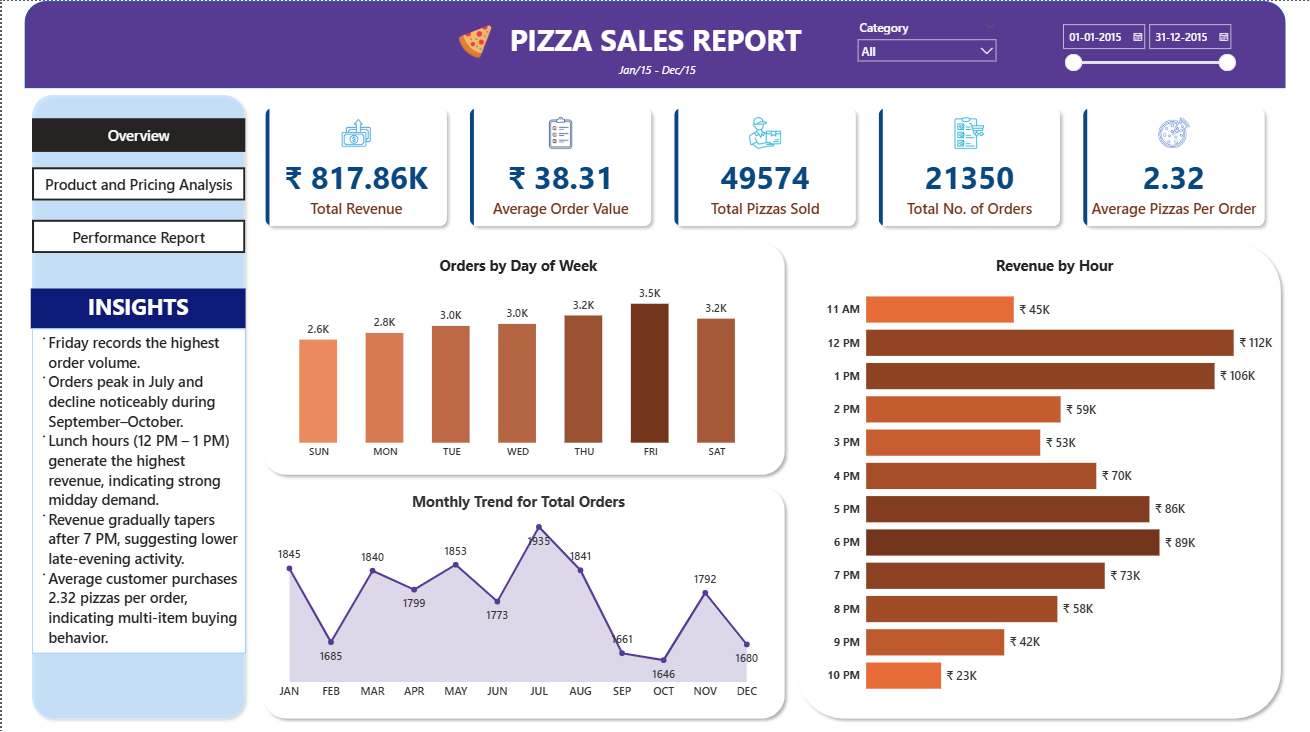

This screenshot's page, from the dashboard's own definition file:
{"tool":"powerbi","page":{"name":"Overview","canvas":[1920,1080],"ordinal":0},"visuals":[{"type":"cardVisual","fields":{"Data":["pizza_sales.Total Revenue","pizza_sales.Average Order Value","pizza_sales.Total Pizzas Sold","pizza_sales.Total No. of Orders","pizza_sales.Average Pizzas Per Order"]},"box":[357.7,128.4,1527.9,231.1],"z":0},{"type":"shape","box":[33,0,1850.8,128.4],"z":1000},{"type":"textbox","box":[656.7,22,605.3,73.4],"z":2000},{"type":"textbox","box":[882.3,84.4,159.6,33],"z":3000},{"type":"image","box":[669.5,34.9,49.5,49.5],"z":4000},{"type":"shape","box":[374.2,346.7,783.2,357.7],"z":5000},{"type":"columnChart","title":"Orders by Day of Week","fields":{"Category":["pizza_sales.day_name_abbr"],"Y":["pizza_sales.Total No. of Orders"]},"box":[392.5,372.4,730,310],"z":6000},{"type":"shape","box":[374.2,704.4,783.2,357.7],"z":7000},{"type":"areaChart","title":"Monthly Trend for Total Orders","fields":{"Category":["pizza_sales.month_name_abbr"],"Y":["pizza_sales.Total No. of Orders"]},"box":[392.5,719,730,315.5],"z":8000},{"type":"shape","box":[1157.4,346.7,728.2,715.4],"z":9000},{"type":"barChart","title":"Revenue by Hour","fields":{"Y":["pizza_sales.Total Revenue (Filtered for revenue by hour)"],"Category":["pizza_sales.Hour label"]},"box":[1203.3,372.4,682.3,662.2],"z":10000},{"type":"shape","box":[34.9,128.4,330.2,933.6],"z":11000},{"type":"textbox","box":[42.2,421.9,315.5,58.7],"z":12000},{"type":"textbox","box":[44,480.6,313.7,476.9],"z":13000},{"type":"slicer","fields":{"Values":["pizza_sales.pizza_category"]},"box":[1245.5,22,223.8,78.9],"z":14000},{"type":"slicer","fields":{"Values":["pizza_sales.order_date"]},"box":[1544.4,23.8,275.1,93.5],"z":15000},{"type":"pageNavigator","box":[44,172.4,313.7,49.5],"z":15001},{"type":"pageNavigator","box":[44,244,313.7,49.5],"z":15002},{"type":"pageNavigator","box":[44,321,313.7,49.5],"z":15003}]}

Visuals, with their boxes in screenshot pixels (x1, y1, x2, y2), scaled from the page's 1920x1080 canvas onto the 1310x732 screenshot:
cardVisual - pizza_sales.Total Revenue x pizza_sales.Average Order Value: bbox=[244, 87, 1287, 244]
shape: bbox=[23, 0, 1285, 87]
textbox: bbox=[448, 15, 861, 65]
textbox: bbox=[602, 57, 711, 80]
image: bbox=[457, 24, 491, 57]
shape: bbox=[255, 235, 790, 477]
"Orders by Day of Week" columnChart: bbox=[268, 252, 766, 463]
shape: bbox=[255, 477, 790, 720]
"Monthly Trend for Total Orders" areaChart: bbox=[268, 487, 766, 701]
shape: bbox=[790, 235, 1287, 720]
"Revenue by Hour" barChart: bbox=[821, 252, 1287, 701]
shape: bbox=[24, 87, 249, 720]
textbox: bbox=[29, 286, 244, 326]
textbox: bbox=[30, 326, 244, 649]
slicer - pizza_sales.pizza_category: bbox=[850, 15, 1002, 68]
slicer - pizza_sales.order_date: bbox=[1054, 16, 1241, 80]
pageNavigator: bbox=[30, 117, 244, 150]
pageNavigator: bbox=[30, 165, 244, 199]
pageNavigator: bbox=[30, 218, 244, 251]
